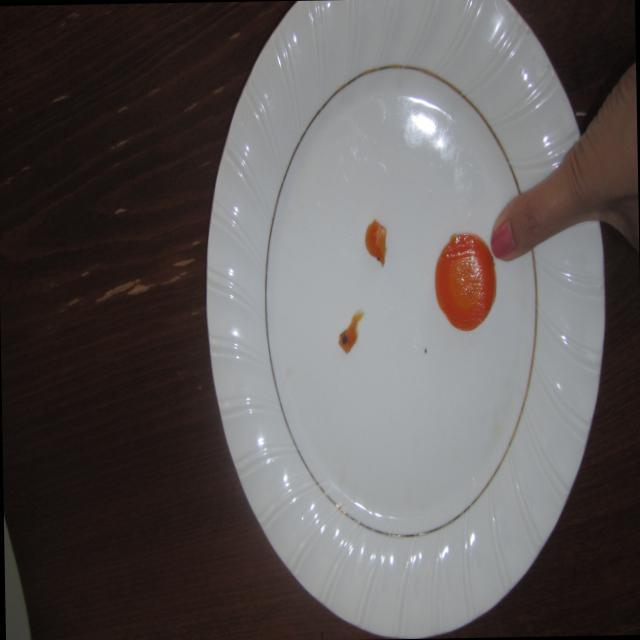Carrot: (428, 222, 499, 338)
Finger: (486, 176, 558, 266)
